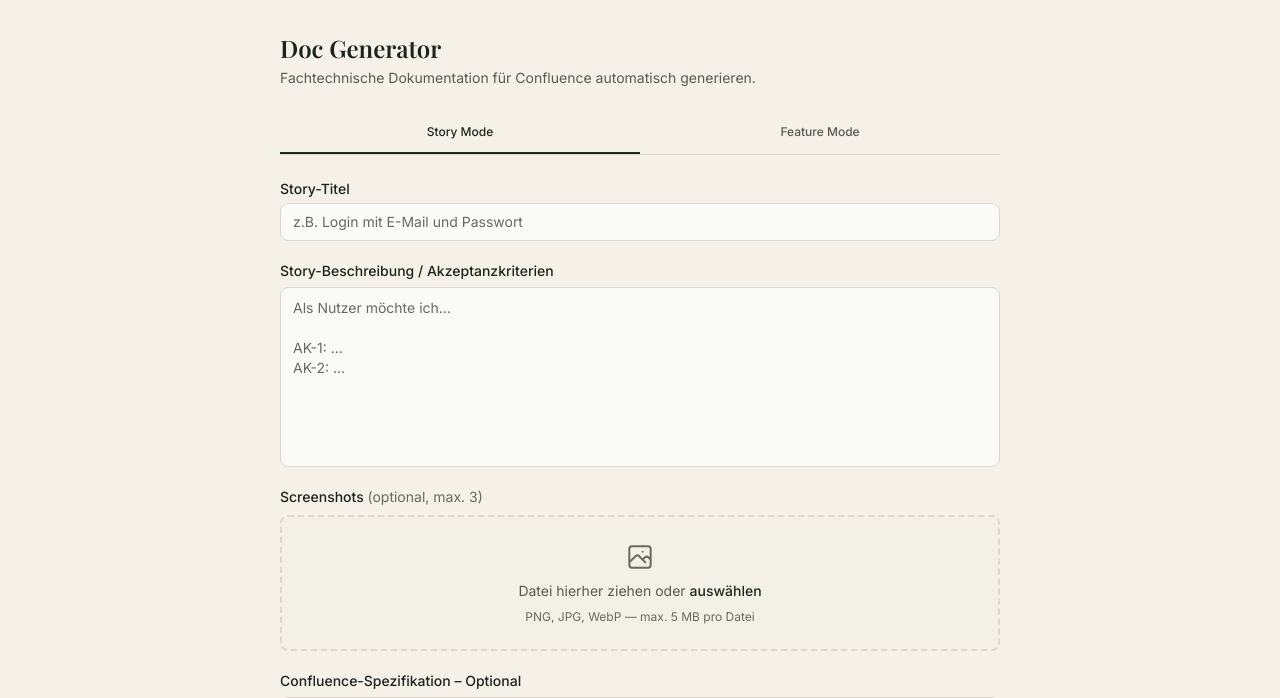
Scenario: DocGeneratorPage — Mode-Wechsel › wechselt nach Bestätigung und löscht Eingaben
Type "Mein Titel" into the field labelled "Story-Titel" at (640, 222), box [280, 203, 1000, 241]
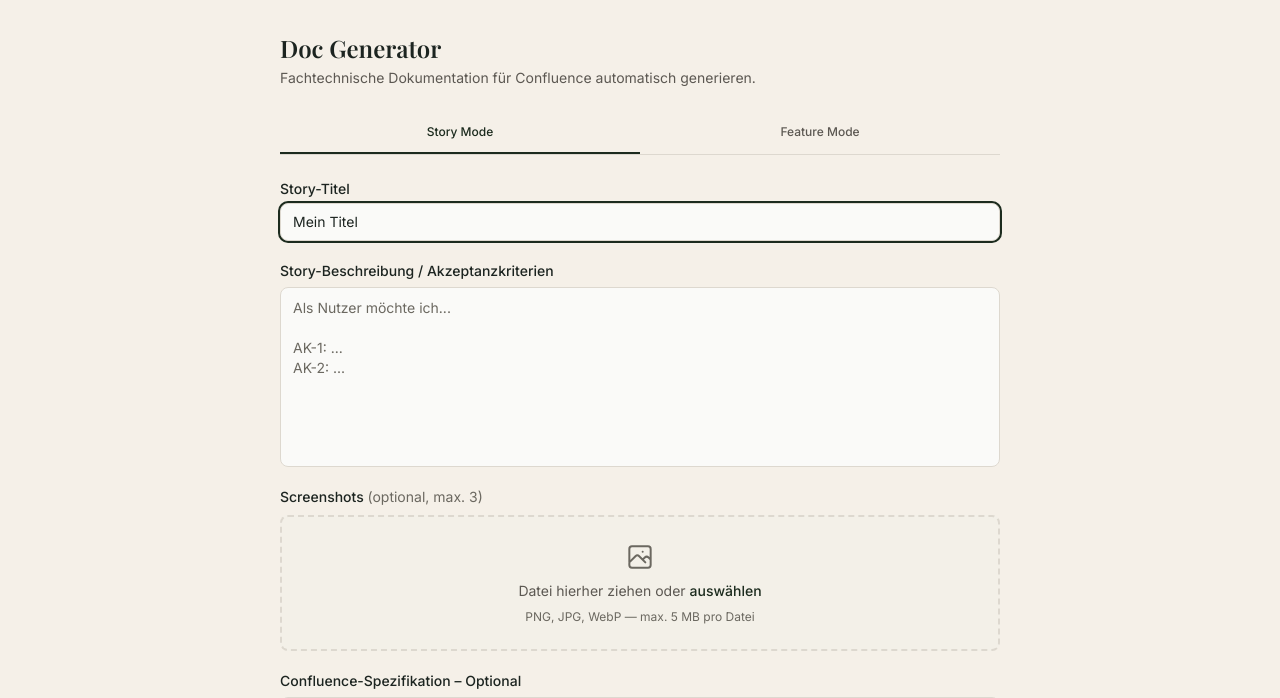
Click the tab "Feature Mode" at (820, 133), box [640, 112, 1000, 154]
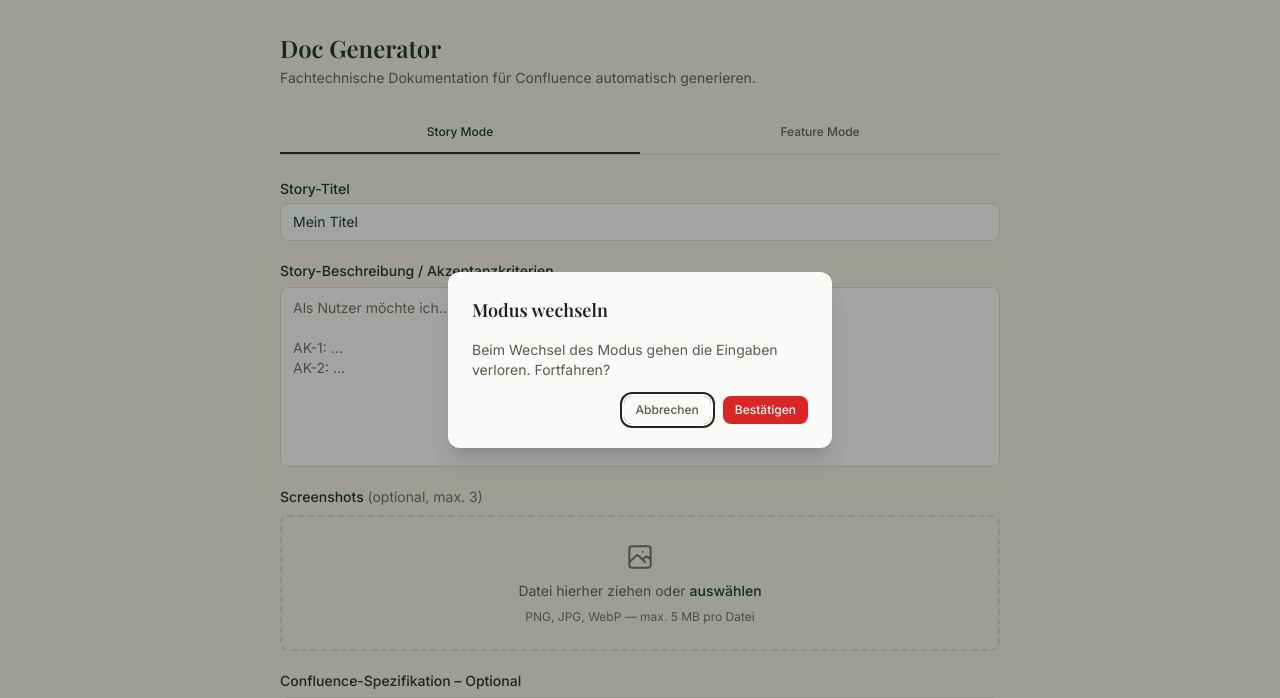
Expected: the dialog is shown, [448, 272, 832, 448]
Click the button "Bestätigen" at (765, 410), box [723, 396, 808, 424]
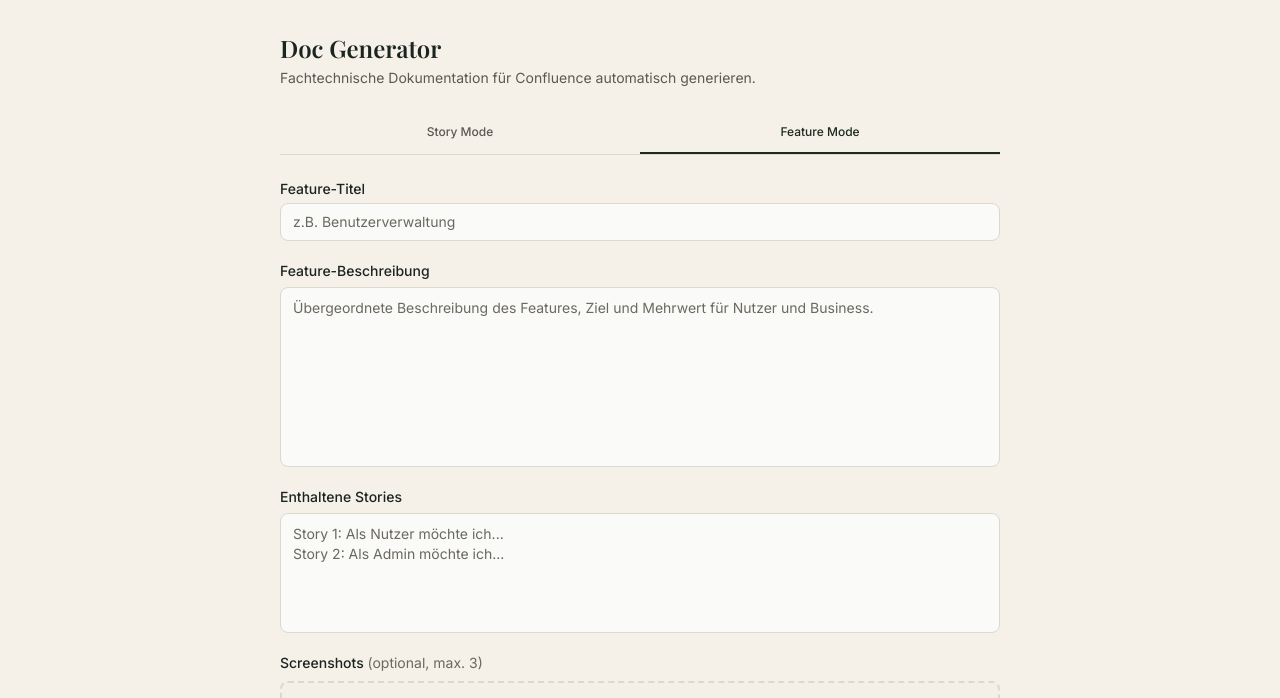
Expected: the text box labelled "Enthaltene Stories" is shown, [280, 513, 1000, 633]
Expected: the field labelled "Feature-Titel" is empty, [280, 203, 1000, 241]
